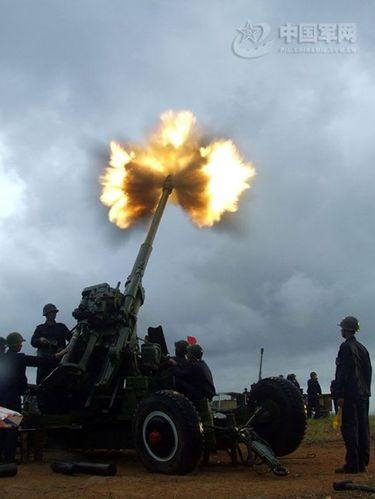MIL_SPG: (23, 178, 306, 475)
